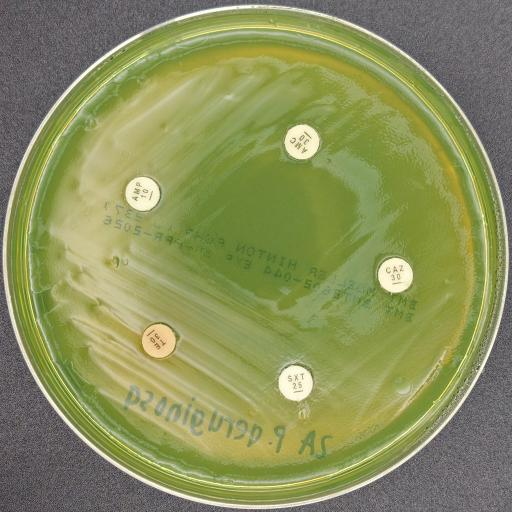disc: (281, 122, 323, 164), (138, 320, 179, 362), (275, 362, 315, 404), (122, 174, 164, 214), (375, 255, 415, 295)
